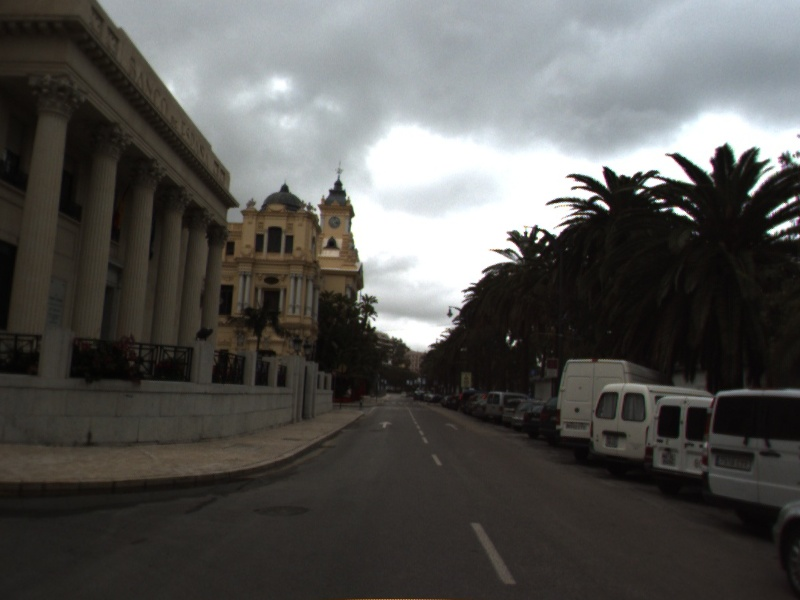STRAIGHT: (377, 419, 394, 430), (443, 421, 460, 432)
